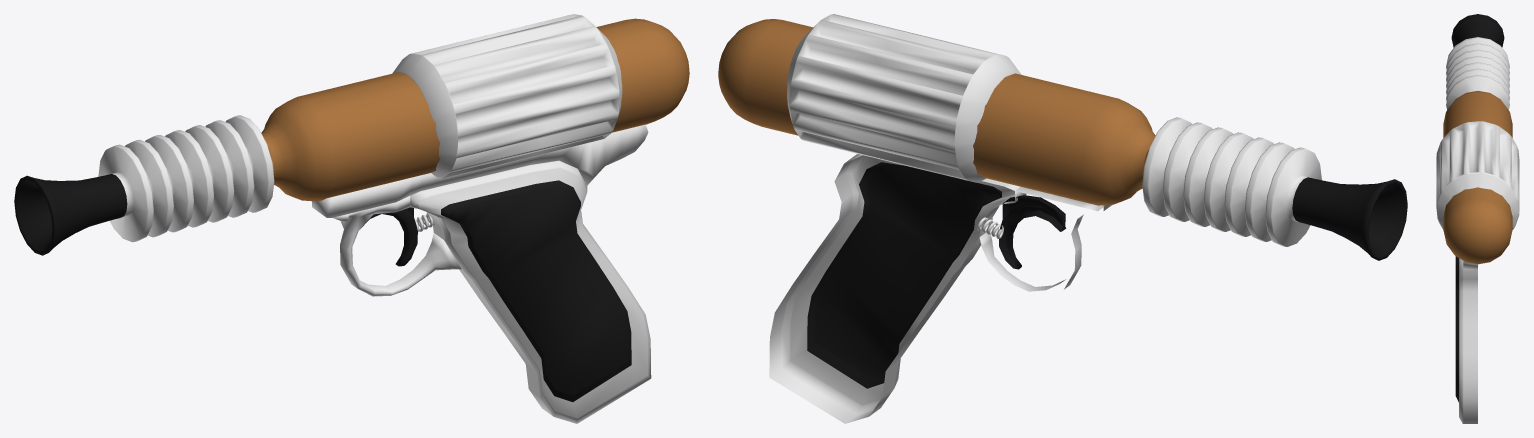
The model's file is pistol.glb.
The picture shows the model from 3 angles, left to right: view 1: azimuth 30°, elevation 25°; view 2: azimuth 150°, elevation 25°; view 3: azimuth 270°, elevation 25°; orthographic projection. The views are drawn at different scales.
Parts seen in each view (by area): view 1: Circle.002; view 2: Circle.002; view 3: Circle.002.
Boxes of the visible parts, x1,y1,x2,y2 form: Circle.002: (14,14,689,423); Circle.002: (718,14,1407,423); Circle.002: (1436,14,1519,423).
Bounding box in the file's own units: 8.82 × 5.09 × 1.52.
